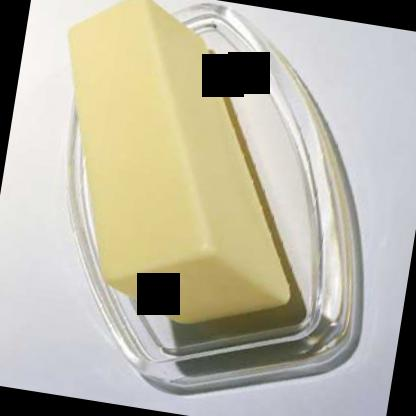butter: (29, 0, 336, 338)
